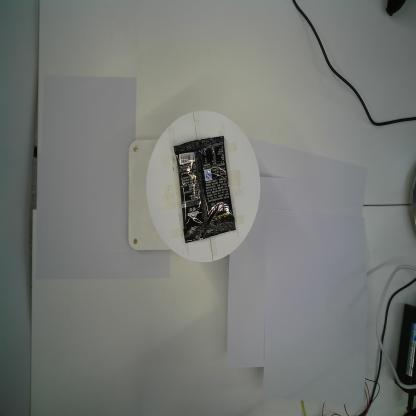Instant Drink: (173, 136, 236, 244)
